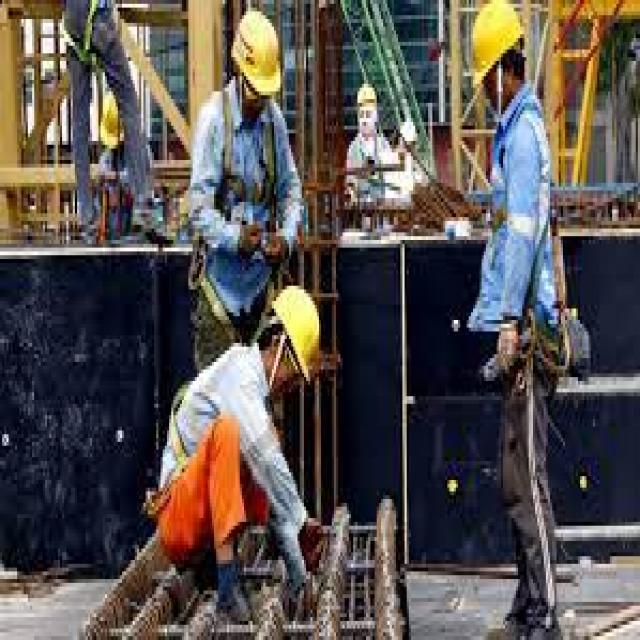Reflective-Jacket: (152, 339, 280, 568), (182, 95, 295, 309), (482, 95, 565, 259)
Safety-Helmet: (261, 270, 330, 392), (225, 3, 289, 106), (468, 0, 528, 88), (351, 76, 381, 114)
